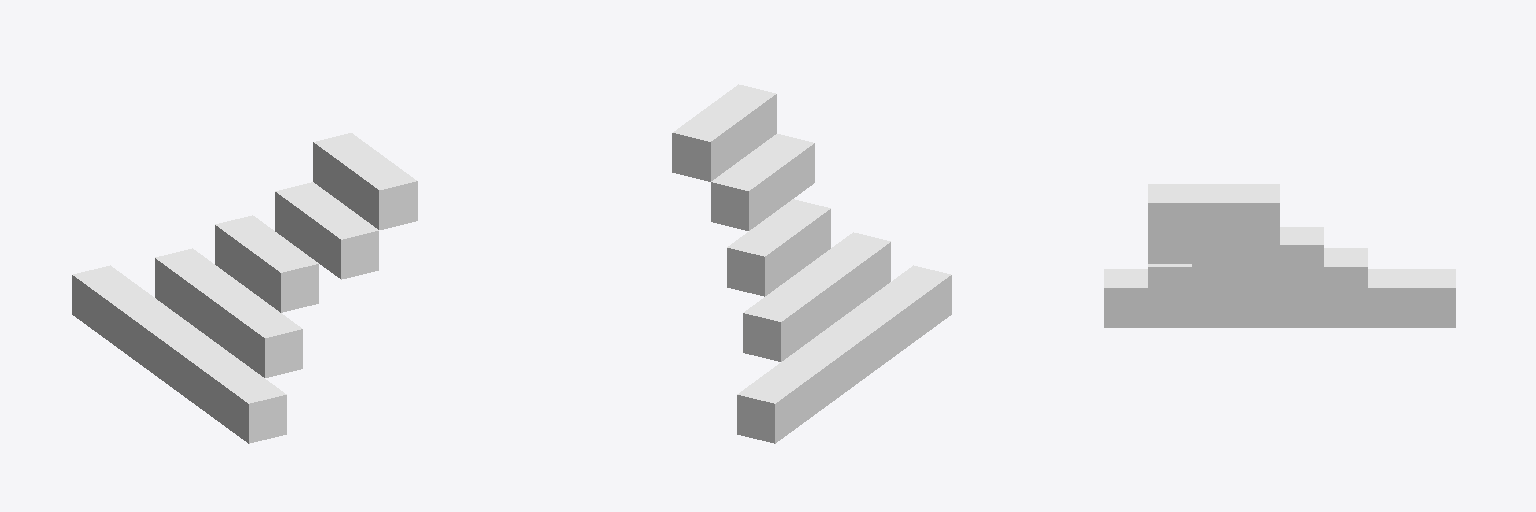
Rendered from YellowHouseParts-98.obj.
3 views of the same model, side by side, from view 1: azimuth 30°, elevation 25°; view 2: azimuth 150°, elevation 25°; view 3: azimuth 270°, elevation 25° (orthographic).
Parts seen in each view (by area): view 1: object 1; view 2: object 1; view 3: object 1.
Boxes of the visible parts, <box> form: object 1: <box>72,133,417,443</box>; object 1: <box>672,84,951,443</box>; object 1: <box>1104,184,1455,327</box>.
Bounding box in the file's own units: 0.5 × 0.5 × 0.8.